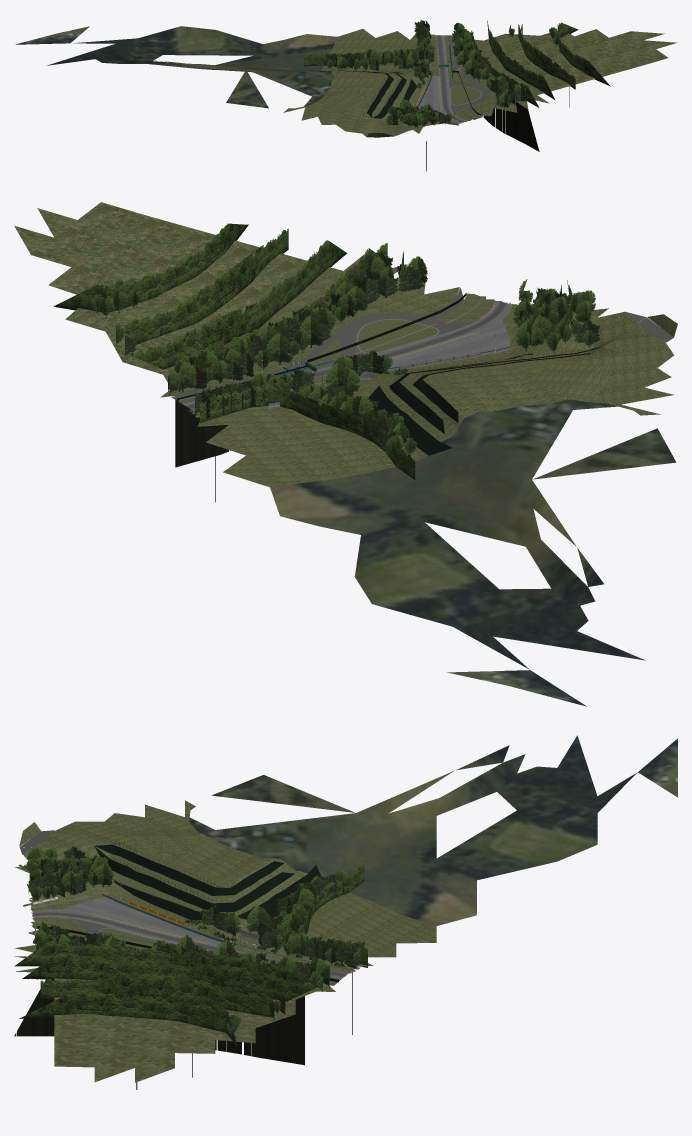
The picture shows the model from 3 angles, top to bottom: view 1: azimuth 30°, elevation 25°; view 2: azimuth 150°, elevation 25°; view 3: azimuth 270°, elevation 25°; orthographic projection. The views are drawn at different scales.
Visible parts, largest first — view 1: tile_t02; view 2: tile_t02; view 3: tile_t02.
Part boxes in pixels (x1,y1,x2,y2): tile_t02: (15,20,677,171); tile_t02: (14,202,677,706); tile_t02: (14,735,677,1089).
Bounding box in the file's own units: 704 × 101 × 528.
32 materials, 32 textured.
